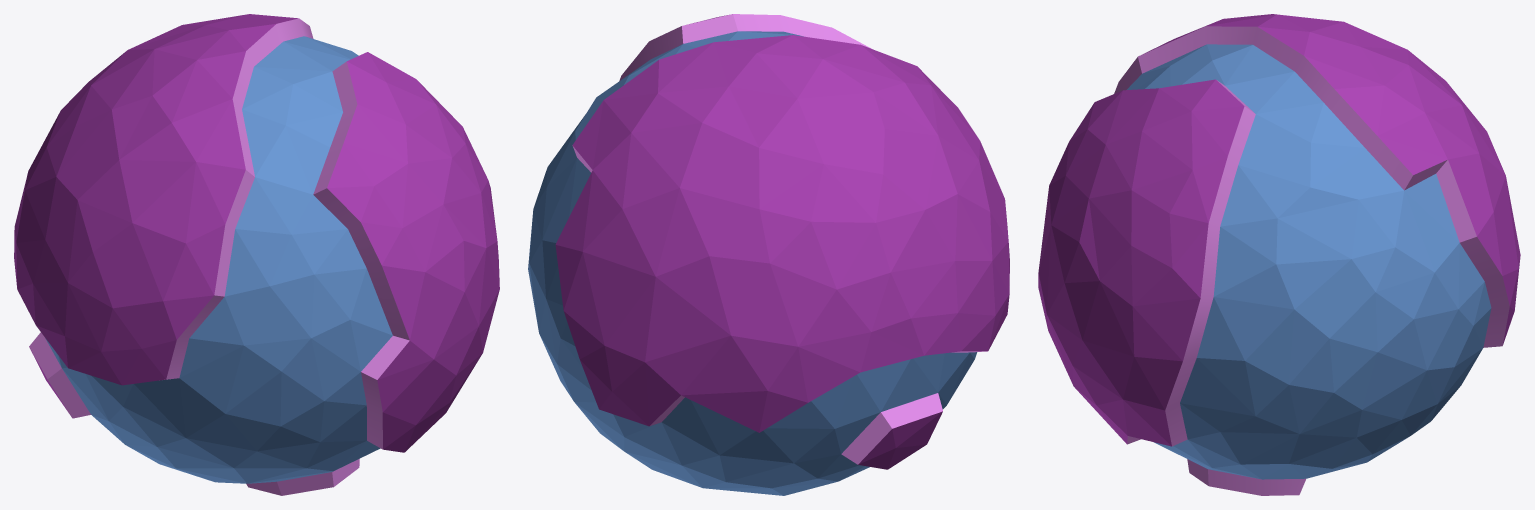
The model's file is planet1.fbx.
3 renders of one model, left to right at view 1: azimuth 30°, elevation 25°; view 2: azimuth 150°, elevation 25°; view 3: azimuth 270°, elevation 25°, orthographic. The views are drawn at different scales.
Parts seen in each view (by area): view 1: pPlatonic9; view 2: pPlatonic9; view 3: pPlatonic9.
Part boxes in pixels (x1=…): pPlatonic9: x1=14, y1=14, x2=499, y2=495; pPlatonic9: x1=528, y1=14, x2=1009, y2=495; pPlatonic9: x1=1038, y1=14, x2=1520, y2=495.
Bounding box in the file's own units: 20.48 × 21.24 × 21.3.
